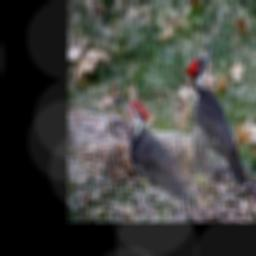Woodpecker: (186, 50, 252, 189), (114, 96, 193, 192)
